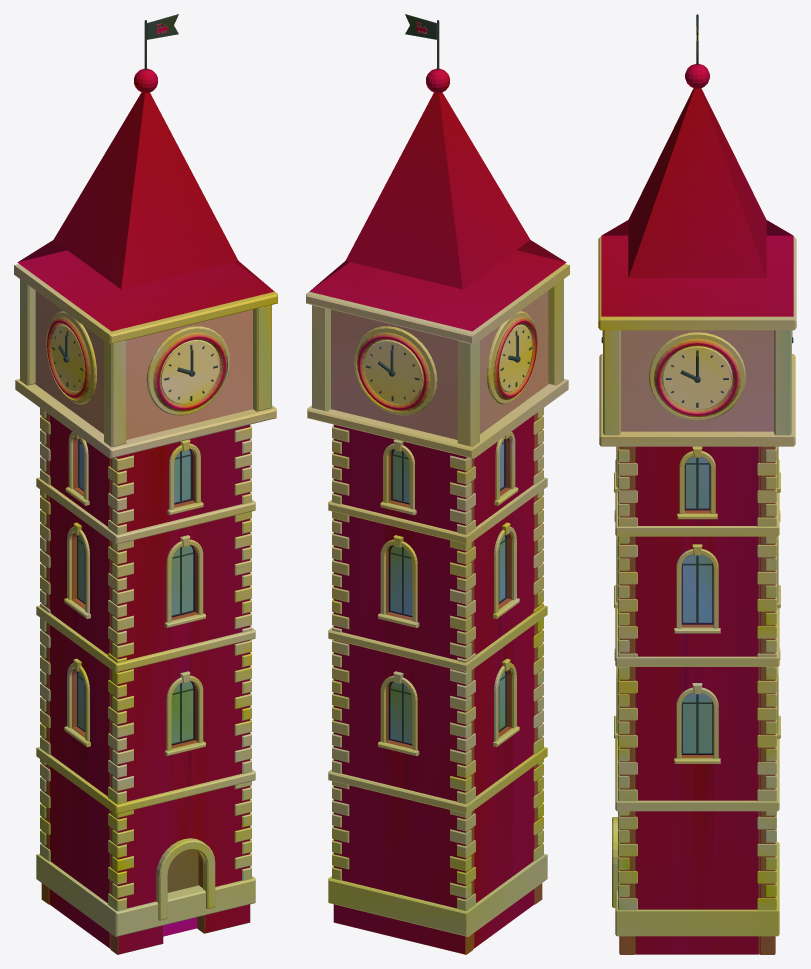
File: GS_ClockTower.glb
3 views of the same model, side by side, from view 1: azimuth 30°, elevation 25°; view 2: azimuth 150°, elevation 25°; view 3: azimuth 270°, elevation 25° (orthographic).
Parts seen in each view (by area): view 1: GS_ClockTower; view 2: GS_ClockTower; view 3: GS_ClockTower.
Boxes of the visible parts, x1,y1,x2,y2 form: GS_ClockTower: (14, 14, 277, 954); GS_ClockTower: (306, 14, 569, 954); GS_ClockTower: (598, 14, 796, 954).
Size of the model in its own units: 6.6 by 33.39 by 6.6.
